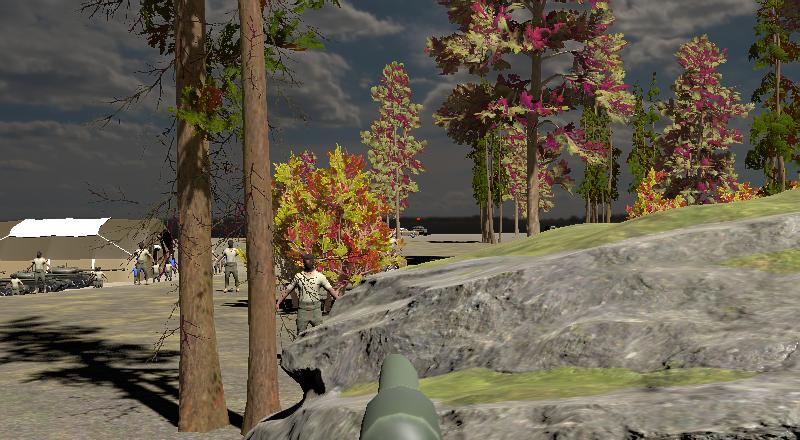Human: (217, 238, 248, 295), (130, 264, 142, 287)
Tank: (1, 264, 121, 296), (48, 264, 120, 290), (0, 272, 34, 298)
